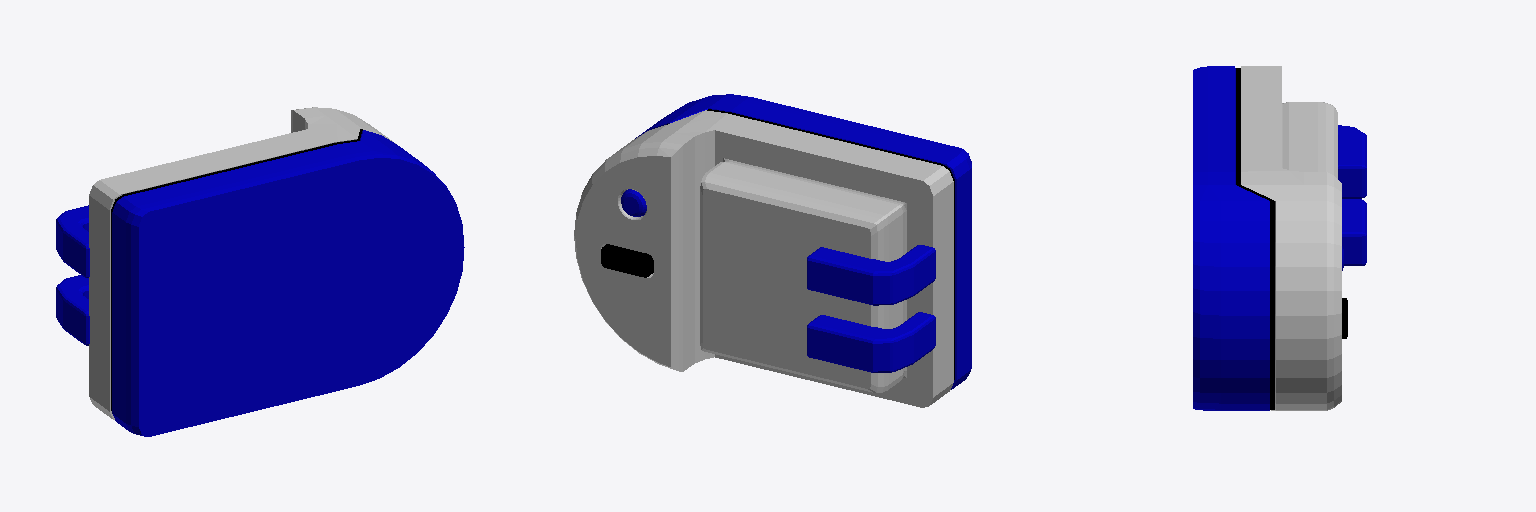
File: controller.obj
The picture shows the model from 3 angles: view 1: azimuth 30°, elevation 25°; view 2: azimuth 150°, elevation 25°; view 3: azimuth 270°, elevation 25°; orthographic projection.
Parts seen in each view (by area): view 1: Controller; view 2: Controller; view 3: Controller.
Boxes of the visible parts, box(x1,y1,x2,y2) form: Controller: box(56, 107, 464, 436); Controller: box(574, 94, 971, 407); Controller: box(1193, 66, 1366, 410).
Bounding box in the file's own units: 0.3868 × 0.2476 × 0.1715.